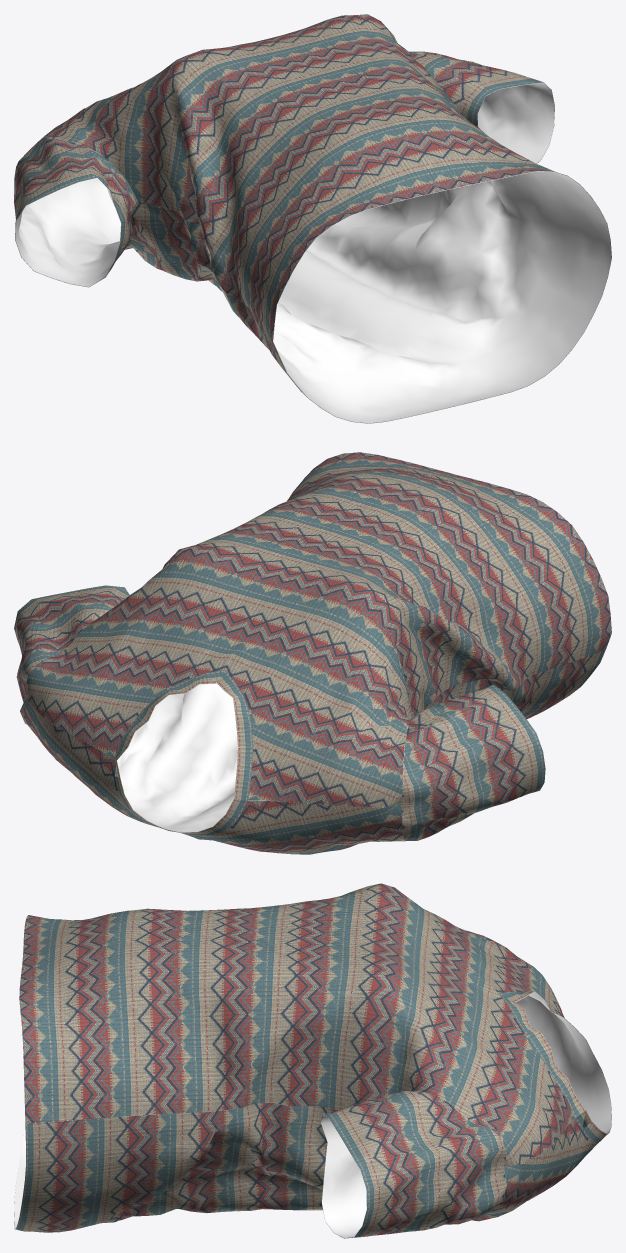
The model's file is female_fat.glb.
3 renders of one model, top to bottom at view 1: azimuth 30°, elevation 25°; view 2: azimuth 150°, elevation 25°; view 3: azimuth 270°, elevation 25°, orthographic. The views are drawn at different scales.
Parts seen in each view (by area): view 1: female_fat; view 2: female_fat; view 3: female_fat.
Boxes of the visible parts, <box> form: female_fat: <box>14,14,611,423</box>; female_fat: <box>14,452,611,854</box>; female_fat: <box>14,883,611,1238</box>.
Bounding box in the file's own units: 0.6423 × 0.2902 × 0.5876.
2 materials, 1 textured.
